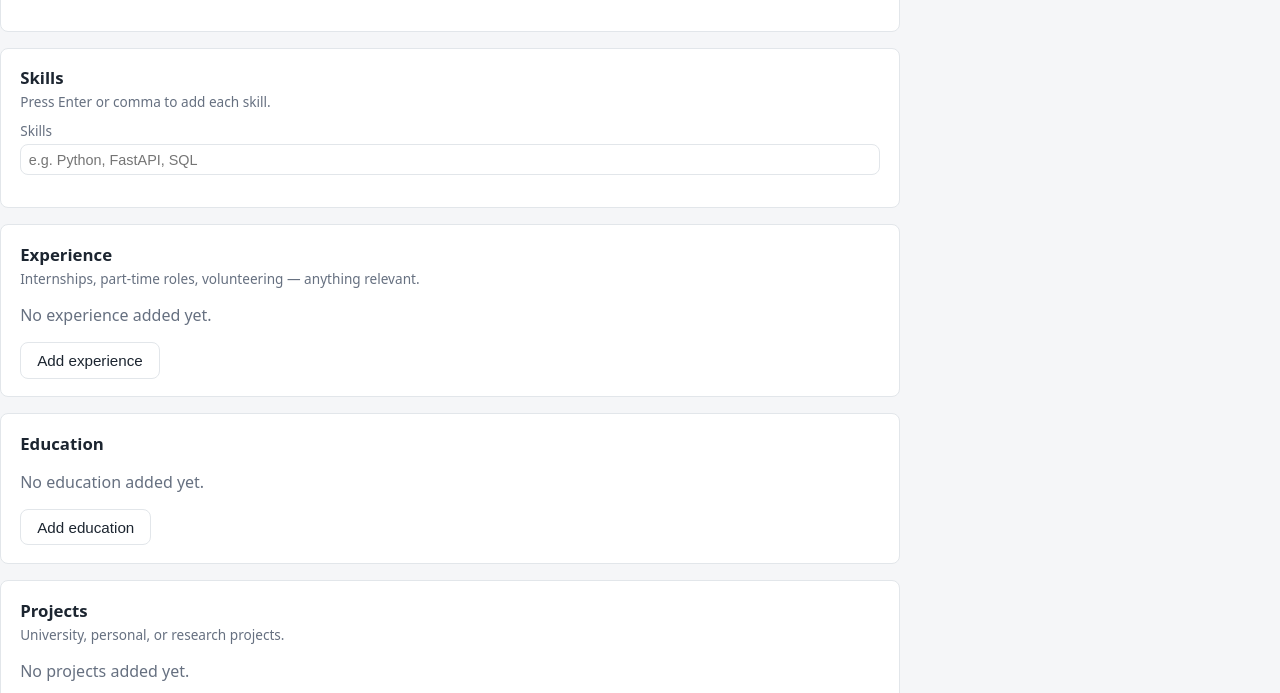
<Profile /> › adds an experience row via the repeatable list
The image size is (1280, 693).
(page scrolled)
Click the button "Add experience" at (90,360), box 20,342 -> 160,379
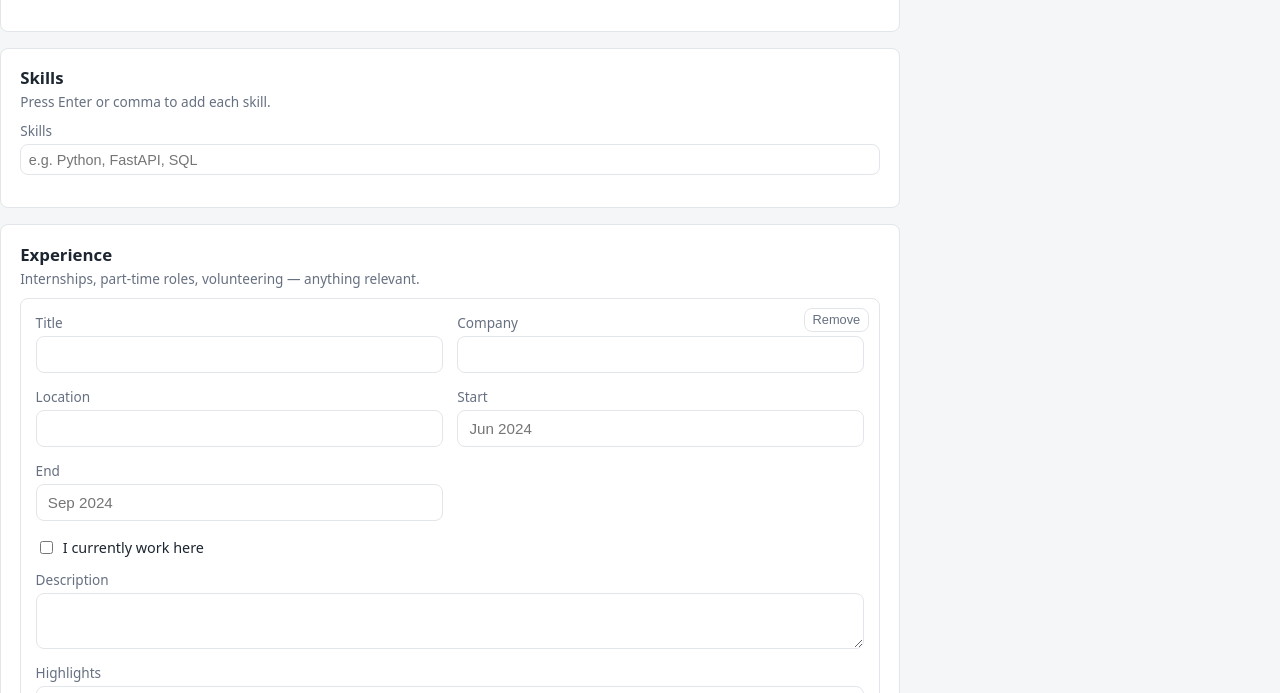
Check: the field labelled "Title" is shown, box 36,336 -> 443,373
